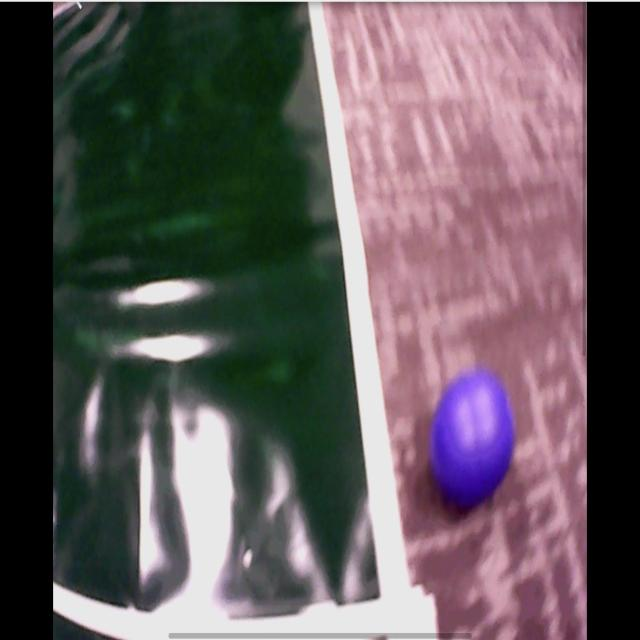ball: (432, 373, 515, 501)
